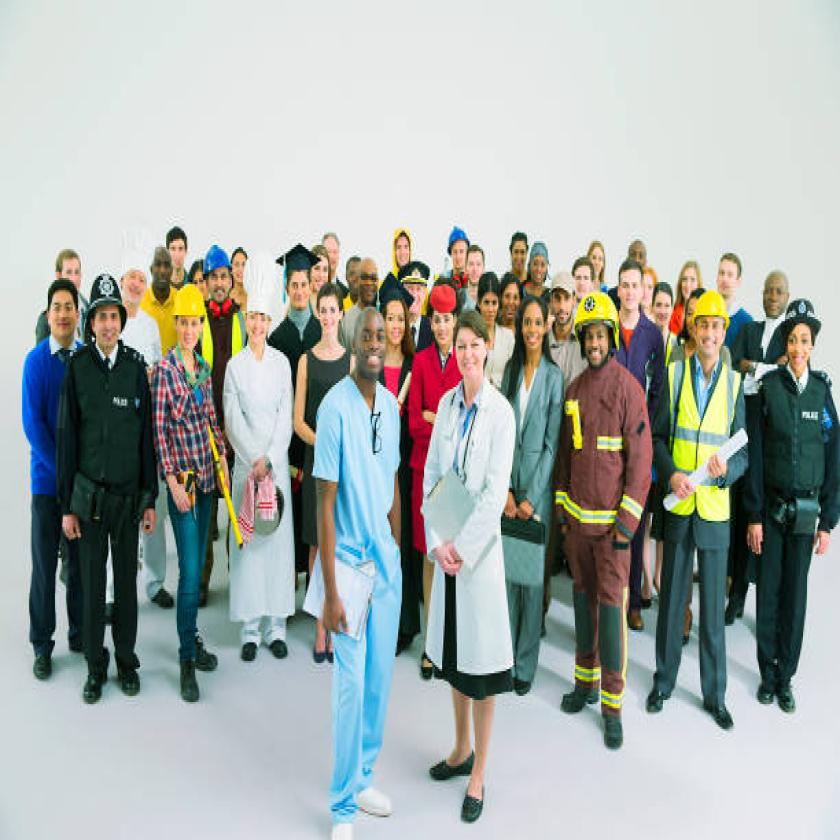Con_casco: (692, 288, 732, 360), (176, 283, 210, 364), (205, 240, 236, 305), (446, 222, 467, 274)
Sin_casco: (41, 278, 82, 354), (355, 294, 388, 385), (452, 312, 489, 384), (378, 272, 413, 342), (515, 300, 548, 360), (712, 249, 750, 300), (315, 282, 345, 335), (761, 268, 789, 323), (148, 242, 172, 300), (616, 258, 642, 310), (478, 270, 500, 321), (527, 236, 549, 286), (676, 257, 701, 300), (571, 254, 595, 298), (499, 273, 521, 318), (358, 256, 380, 300), (652, 282, 672, 328), (166, 224, 185, 272), (509, 229, 527, 272), (466, 246, 485, 286), (590, 242, 606, 278)
